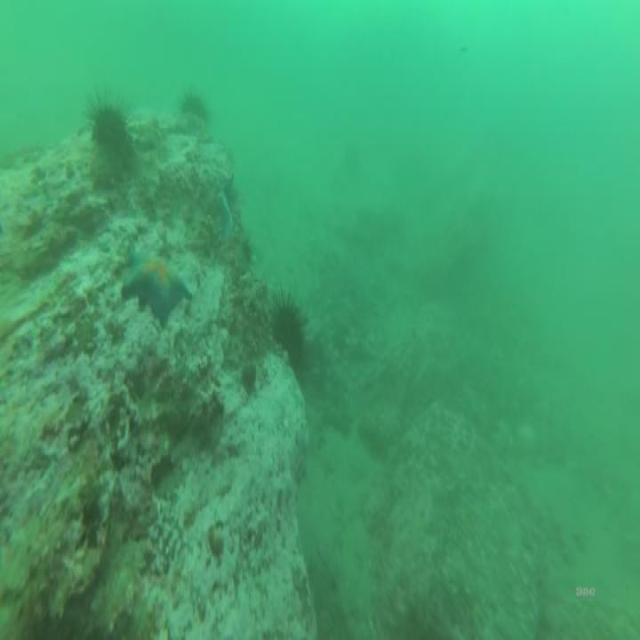echinus: (276, 301, 306, 364), (181, 92, 209, 120), (92, 100, 122, 126)
starfish: (119, 248, 193, 321)
